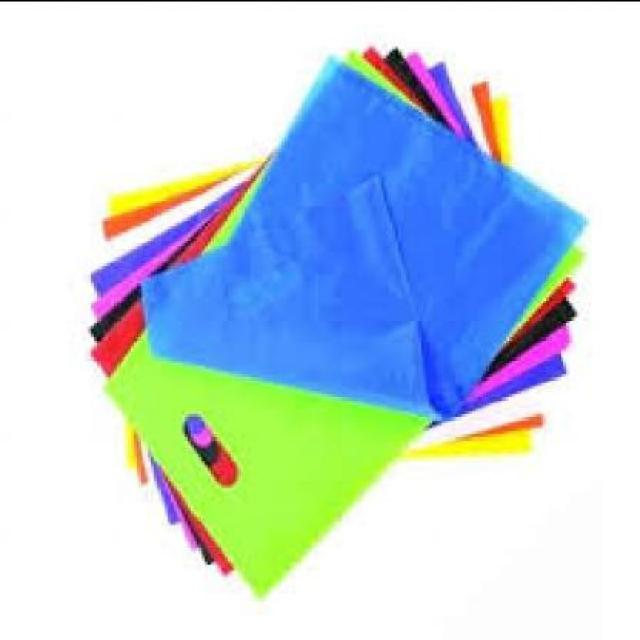PLASTIC: (97, 37, 546, 597), (91, 48, 563, 574), (134, 48, 577, 421), (182, 14, 569, 392), (390, 68, 561, 449)
